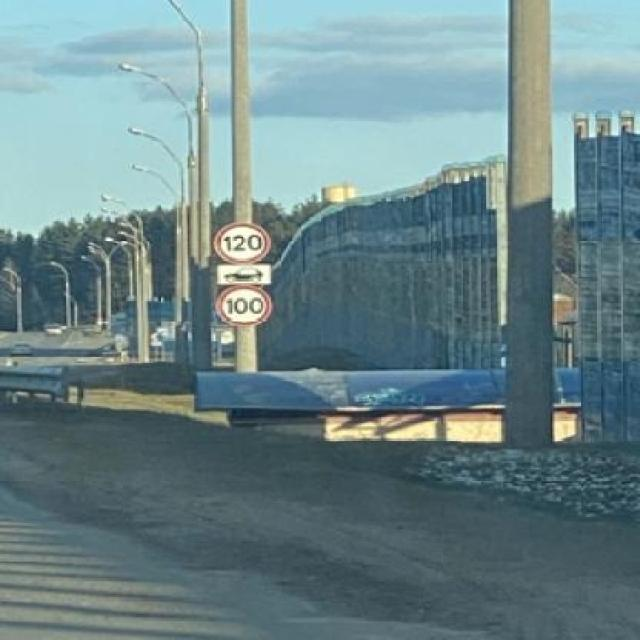forb_speed_over_100: (217, 284, 272, 327)
forb_speed_over_120: (217, 224, 271, 265)
